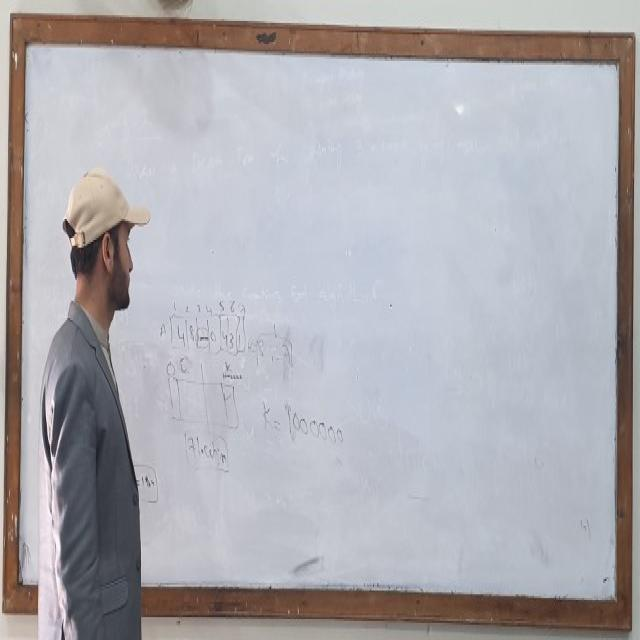Instructor: (38, 167, 154, 640)
White-board: (11, 27, 628, 621)
